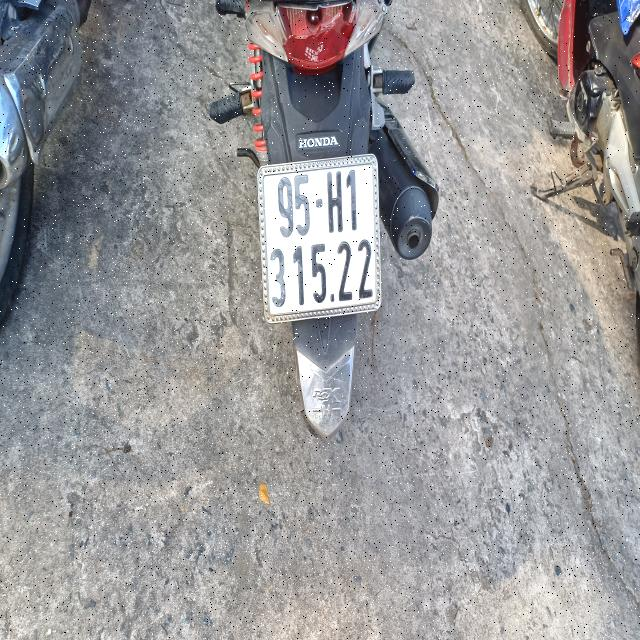1: (345, 167, 359, 233), (292, 245, 306, 306)
2: (336, 241, 353, 304), (357, 237, 373, 297)
3: (269, 246, 287, 307)
5: (310, 240, 328, 304), (293, 172, 311, 235)
9: (276, 176, 294, 240)
H: (325, 170, 345, 233)
